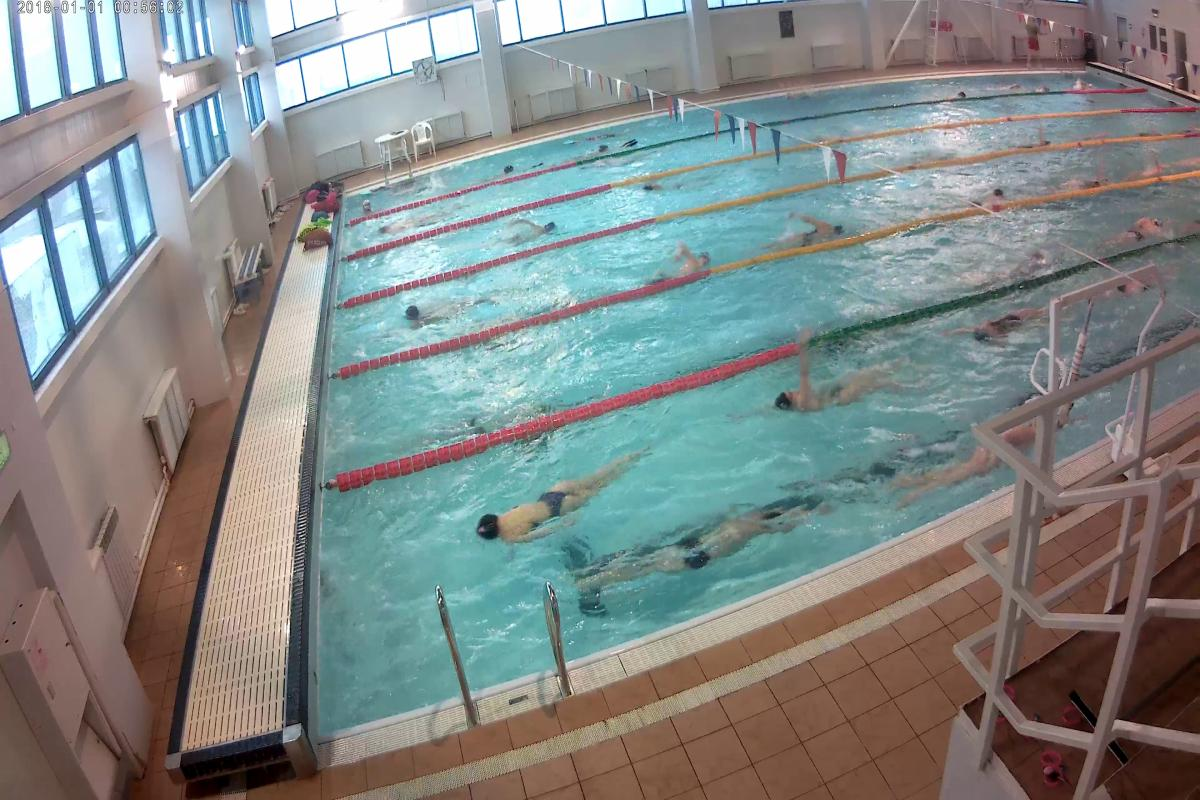swimmer: (586, 500, 802, 598), (472, 453, 634, 551), (769, 360, 906, 424), (883, 449, 988, 513), (400, 289, 493, 335), (945, 303, 1042, 347), (762, 207, 859, 250), (663, 238, 718, 278), (498, 212, 563, 245), (1109, 214, 1166, 249), (377, 209, 439, 237), (1056, 167, 1111, 187), (967, 184, 1008, 209)
